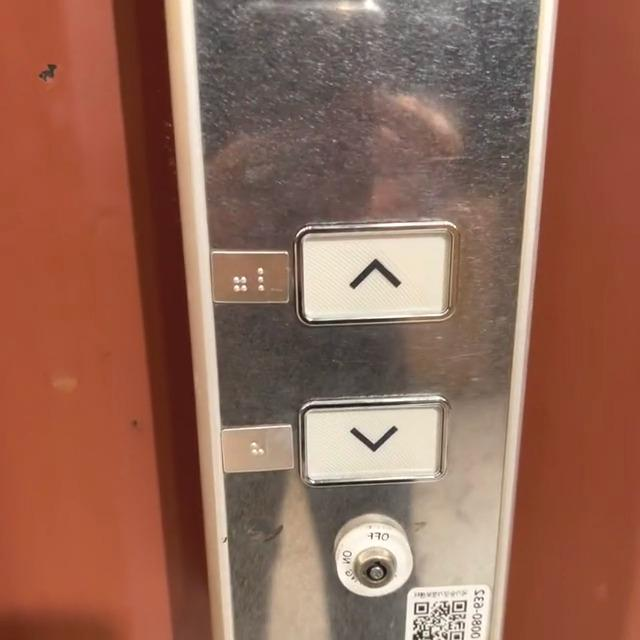button: (292, 221, 460, 330), (302, 389, 451, 494)
